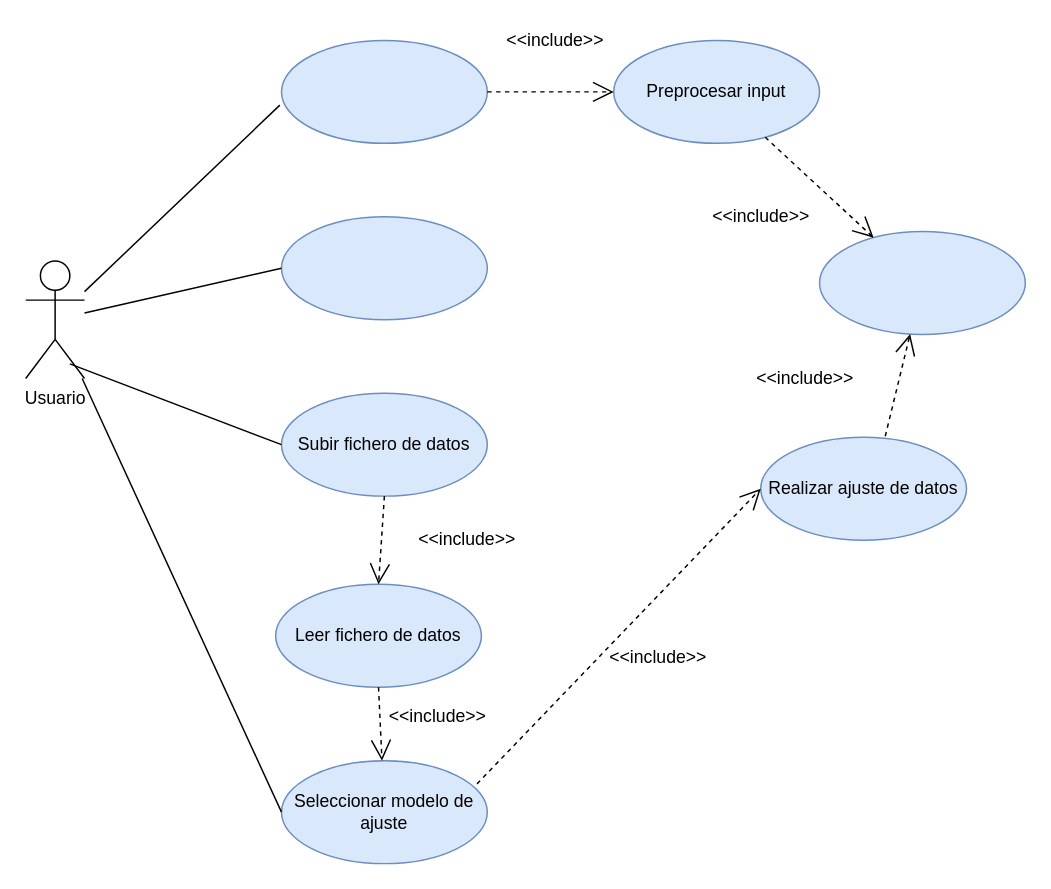
This 1051x889 diagram has some shape labels left out. The shapes that lost their labels are listed below. From the top down, each one's centre as x and y in pixels, then its label:
point (383, 91): Modificar parámetro de un modelo
point (383, 267): Descargar gráfica
point (921, 282): Actualizar gráficas
